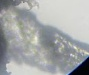microplastic: (1, 3, 89, 75), (1, 20, 12, 75), (1, 1, 40, 11)
